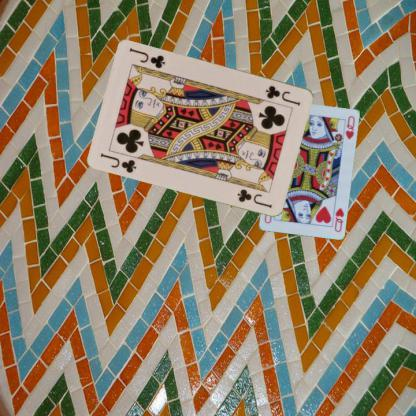Jc: (98, 150, 138, 174), (263, 83, 301, 107)
Qh: (332, 205, 345, 233)
